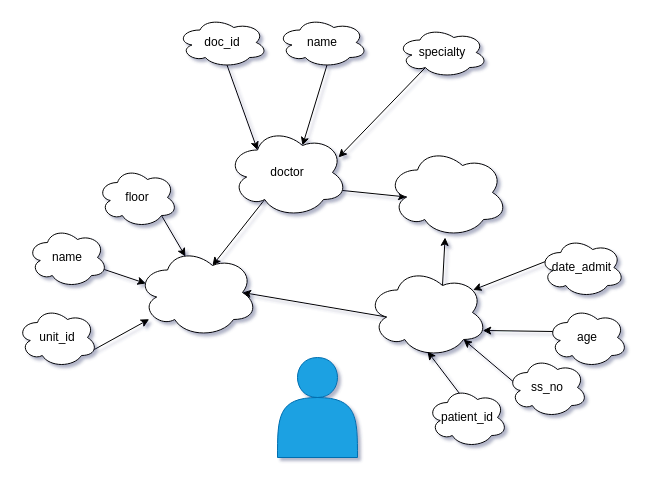
This 651x481 diagram has some shape labels left out. Here are the shapes that lost their labels. From the top down, the centre of each, then its label:
[447,192]: interventions
[197,292]: units
[427,312]: patients
[317,407]: DB Master
